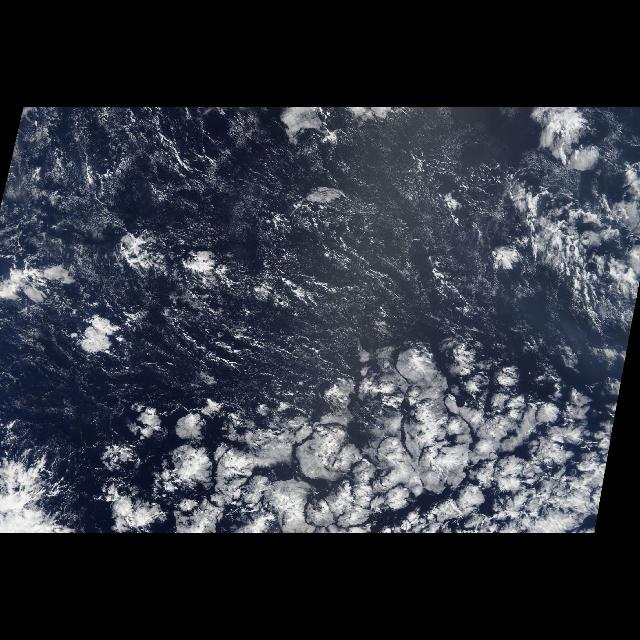Flower: (72, 298, 584, 518)
Gravel: (103, 110, 319, 314)
Sugar: (32, 110, 550, 388)
